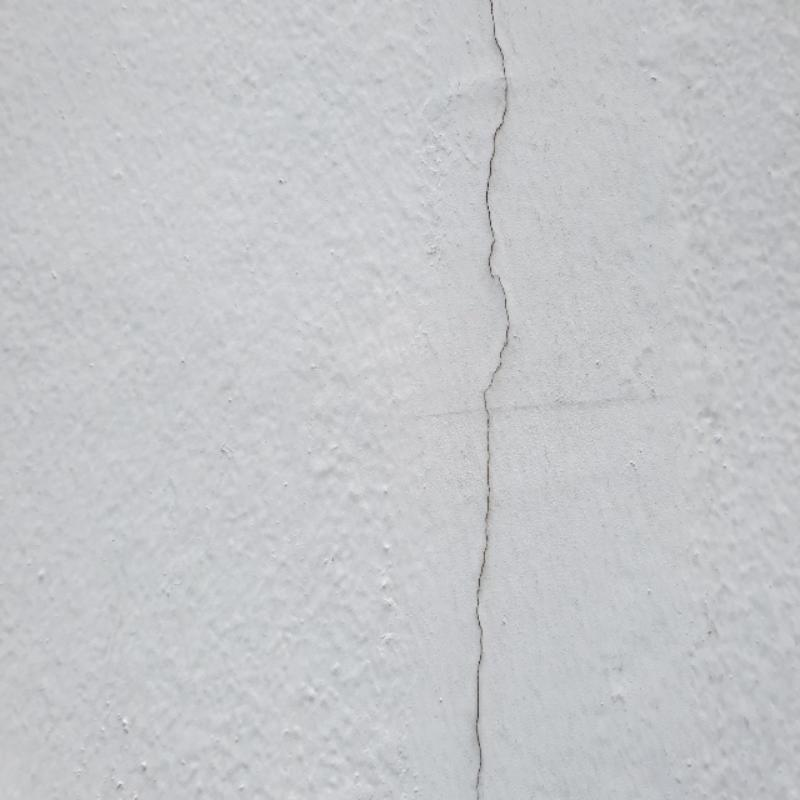crack: (473, 0, 510, 798)
